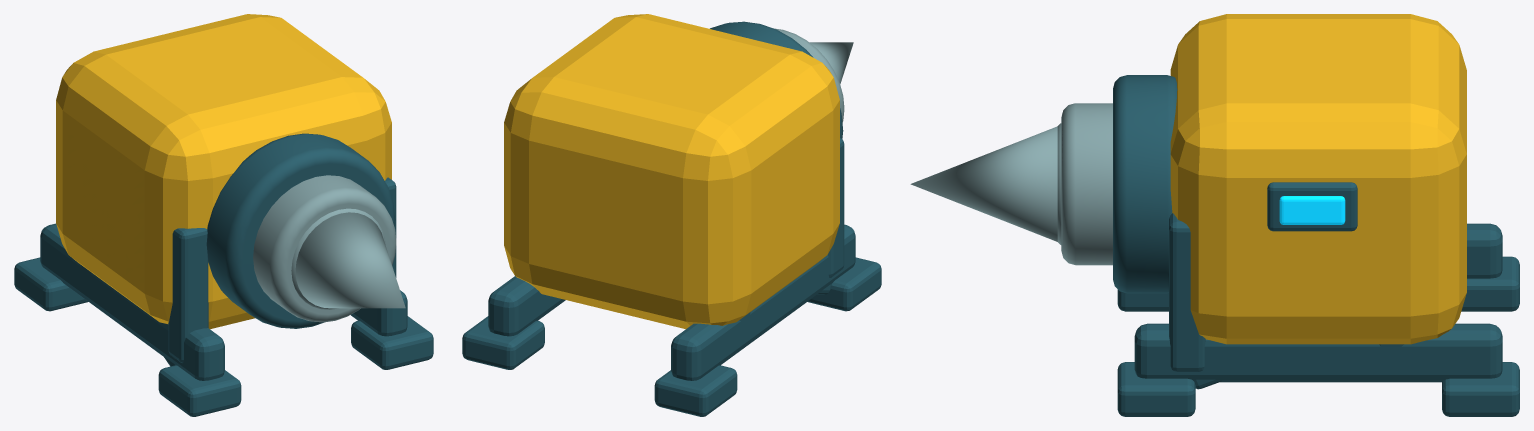
Rendered from drill.glb.
The picture shows the model from 3 angles, left to right: view 1: azimuth 30°, elevation 25°; view 2: azimuth 150°, elevation 25°; view 3: azimuth 270°, elevation 25°; orthographic projection. The views are drawn at different scales.
Parts seen in each view (by area): view 1: Drill housing, Drill collar, Drill spindle, Drill bit, Drill support, Front upright, Drill foot, Drill foot.002, Drill foot.001, Drill support.001, Drill metal ring.001; view 2: Drill housing, Drill support, Drill foot.001, Drill foot.003, Drill support.001, Drill foot, Drill collar, Front upright, Drill bit, Drill spindle; view 3: Drill housing, Drill support.001, Drill collar, Drill bit, Drill spindle, Front upright.001, Drill foot.002, Drill foot.003, Drill indicator bezel, Drill foot.001, Drill support, Drill indicator (+2 smaller).
Part boxes in pixels (x1,y1,x2,y2): Drill housing: (56,14,391,329); Drill collar: (206,133,395,328); Drill spindle: (253,175,396,322); Drill bit: (295,212,405,308); Drill support: (40,223,224,380); Front upright: (168,228,208,362); Drill foot: (158,365,241,416); Drill foot.002: (351,316,433,369); Drill foot.001: (14,257,88,311); Drill support.001: (351,290,407,336); Drill metal ring.001: (291,208,385,309); Drill housing: (504,14,839,329); Drill support: (671,224,855,380); Drill foot.001: (654,365,737,416); Drill foot.003: (462,316,544,369); Drill support.001: (488,276,565,336); Drill foot: (807,257,881,311); Drill collar: (710,21,843,138); Front upright: (827,138,844,277); Drill bit: (809,42,853,83); Drill spindle: (775,28,844,122); Drill housing: (1170,14,1466,344); Drill support.001: (1134,323,1502,382); Drill collar: (1113,75,1177,293); Drill bit: (910,126,1057,241); Drill spindle: (1061,103,1112,265); Front upright.001: (1169,213,1205,371); Drill foot.002: (1117,362,1195,416); Drill foot.003: (1442,362,1519,416); Drill indicator bezel: (1267,182,1357,231); Drill foot.001: (1461,256,1519,311); Drill support: (1467,223,1502,278); Drill indicator: (1279,196,1345,224).
Bounding box in the file's own units: 1.07 × 1.03 × 1.96.
